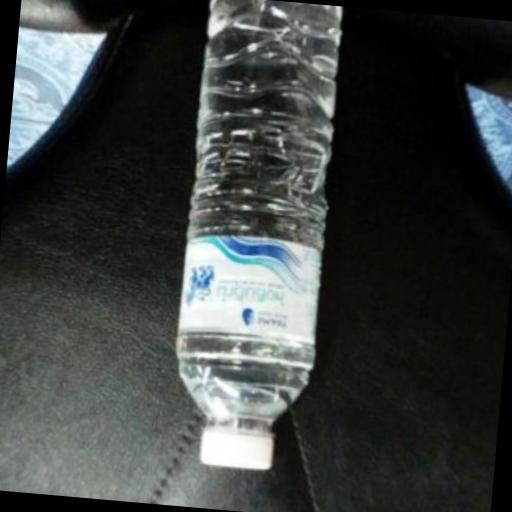Coca: (156, 0, 358, 487)
